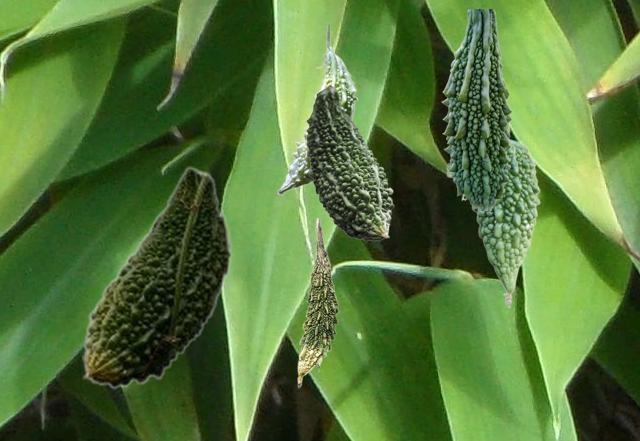ampalaya: (82, 166, 232, 388), (441, 9, 511, 209), (306, 84, 393, 240), (277, 25, 357, 194), (471, 122, 539, 307), (297, 218, 338, 387)
